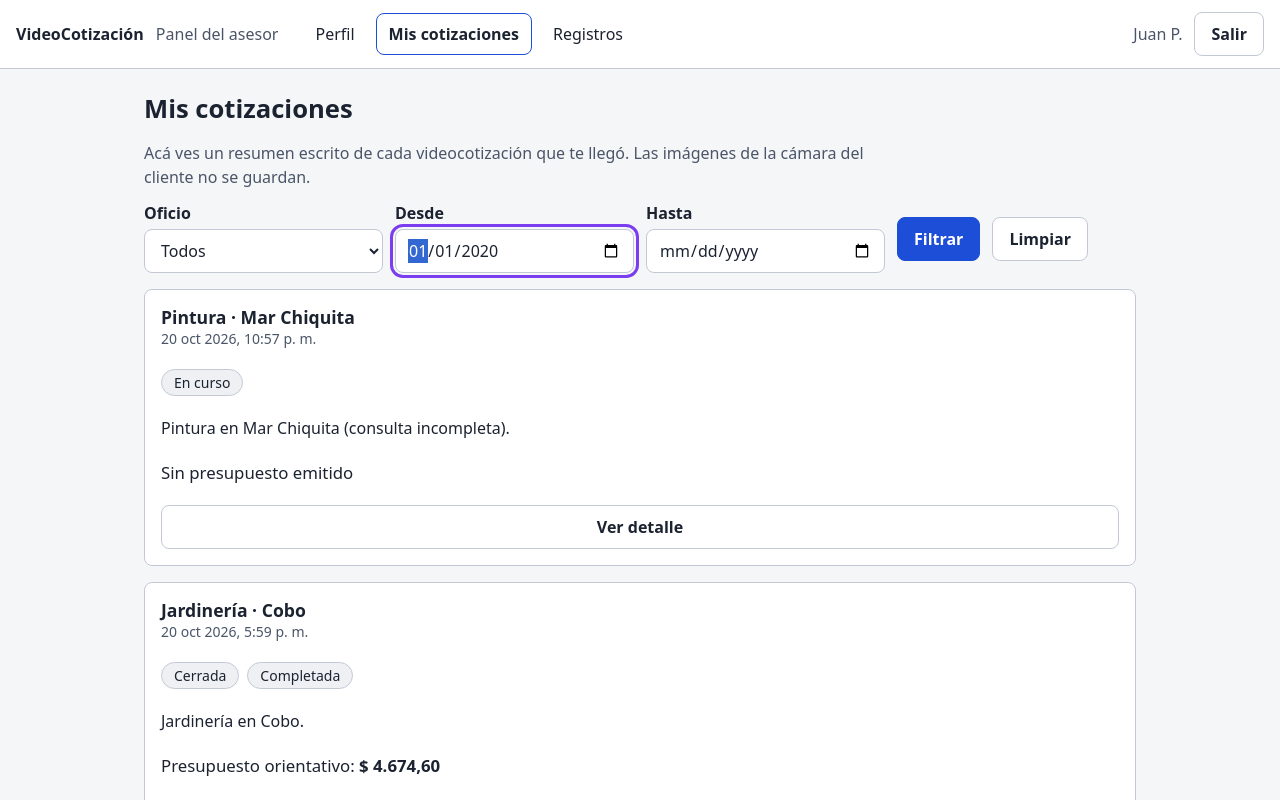
Test: Mis cotizaciones: filtros › filtra por fechas (desde/hasta, inclusive)
Earlier steps of the test are not shown.
Type "2020-12-31" into the date field labelled "Hasta".
click(766, 251); type("2020-12-31")  # box [646,229,885,273]
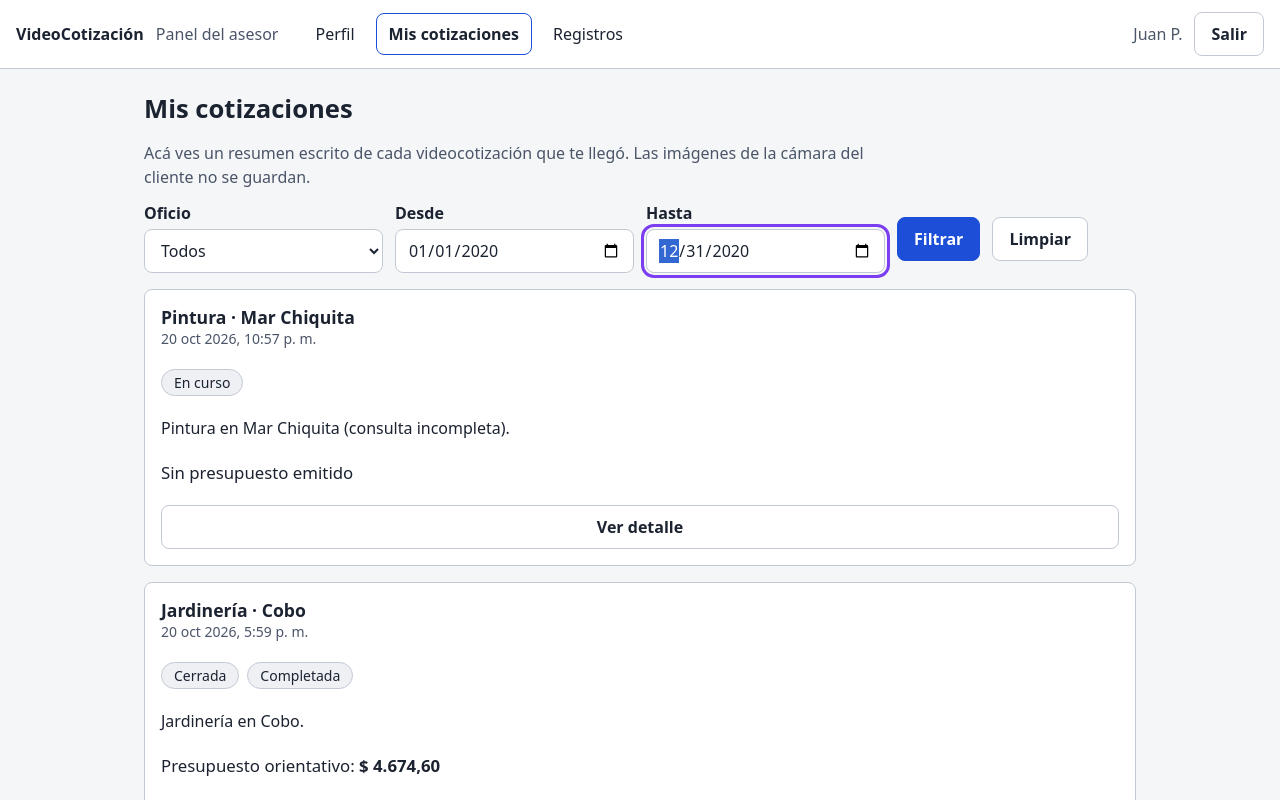
Click the button "Filtrar".
click(939, 239)  # box [897,217,980,261]
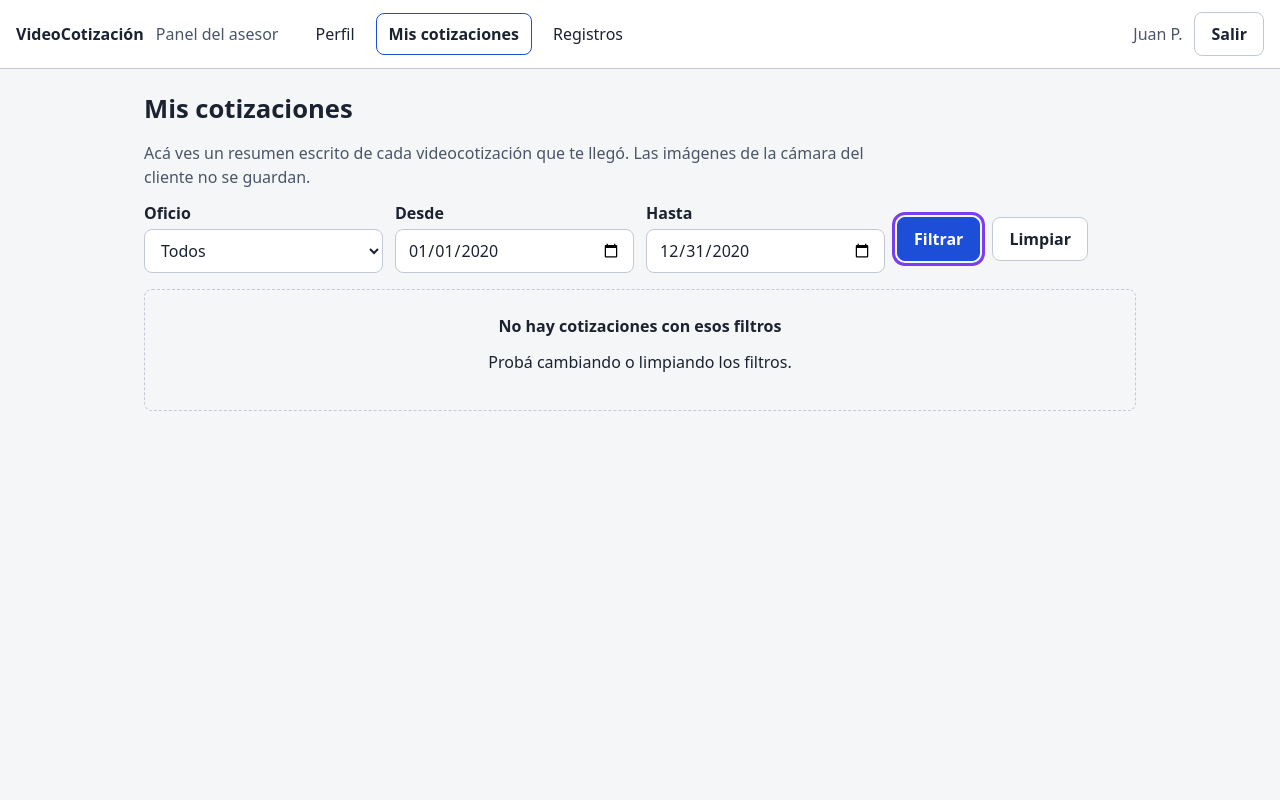
Expected: the text "No hay cotizaciones con esos filtros" is shown, [498,315,782,337]
